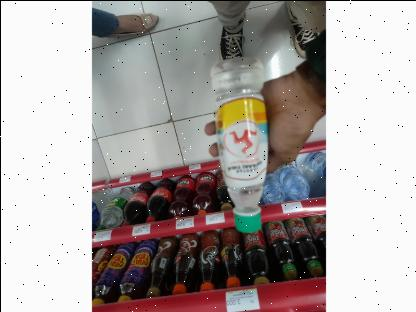Plastic Bottle: (208, 57, 268, 233)
